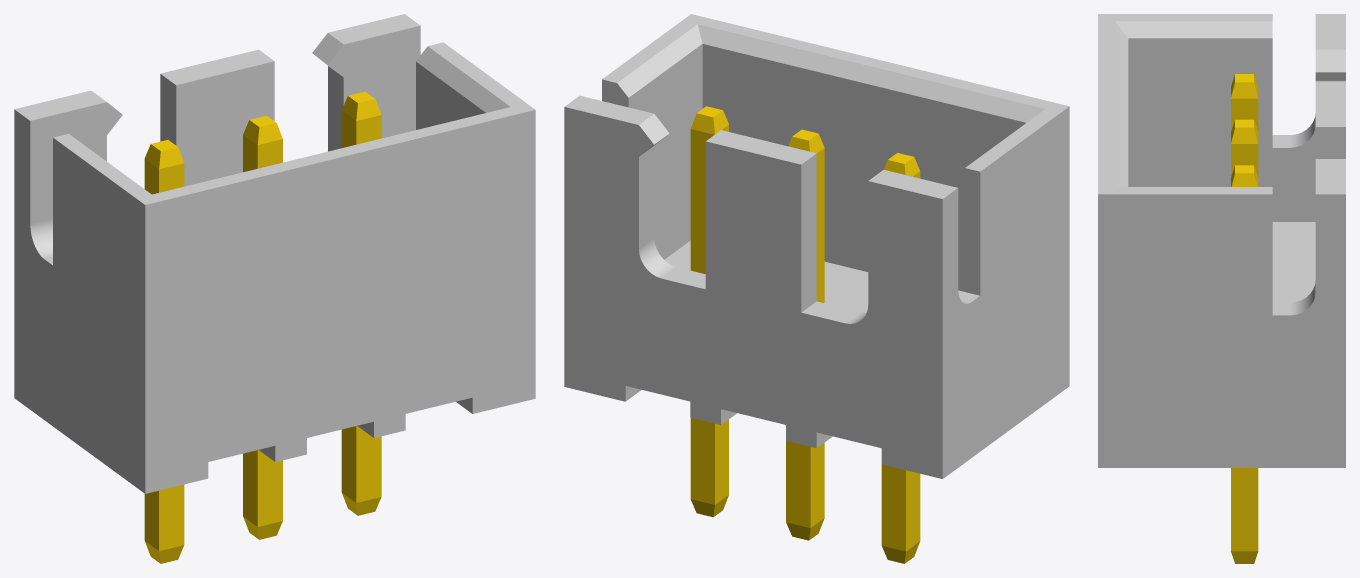
3 views of the same model, side by side, from view 1: azimuth 30°, elevation 25°; view 2: azimuth 150°, elevation 25°; view 3: azimuth 270°, elevation 25° (orthographic). The views are drawn at different scales.
Parts seen in each view (by area): view 1: BxB-XH-A; view 2: BxB-XH-A; view 3: BxB-XH-A.
Boxes of the visible parts, <box> form: BxB-XH-A: <box>14,14,535,563</box>; BxB-XH-A: <box>564,14,1069,563</box>; BxB-XH-A: <box>1098,14,1345,563</box>.
Size of the model in its own units: 0.0099 by 0.0105 by 0.00575.
